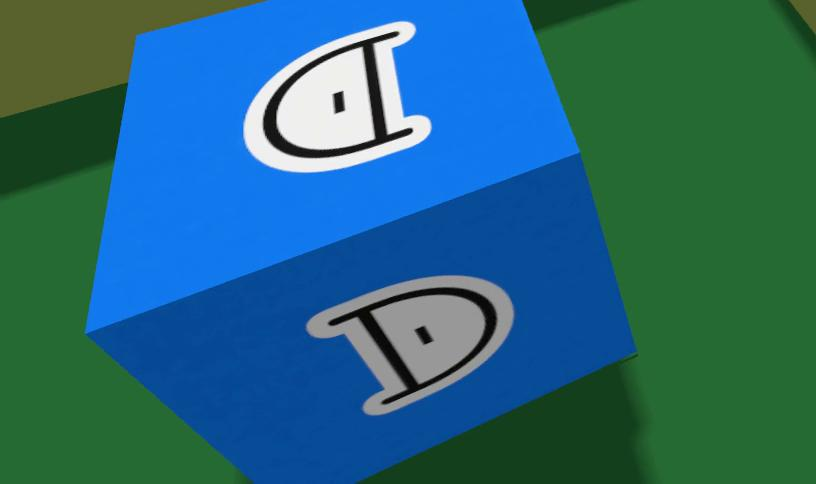KFS_REAL: (38, 0, 672, 484), (85, 0, 636, 483), (574, 0, 814, 484), (308, 276, 513, 415), (245, 22, 430, 172)
